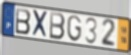2: (101, 18, 117, 48)
3: (84, 17, 98, 46)
B: (49, 11, 66, 42), (15, 7, 32, 36)
G: (66, 14, 82, 43)
X: (32, 9, 49, 40)
